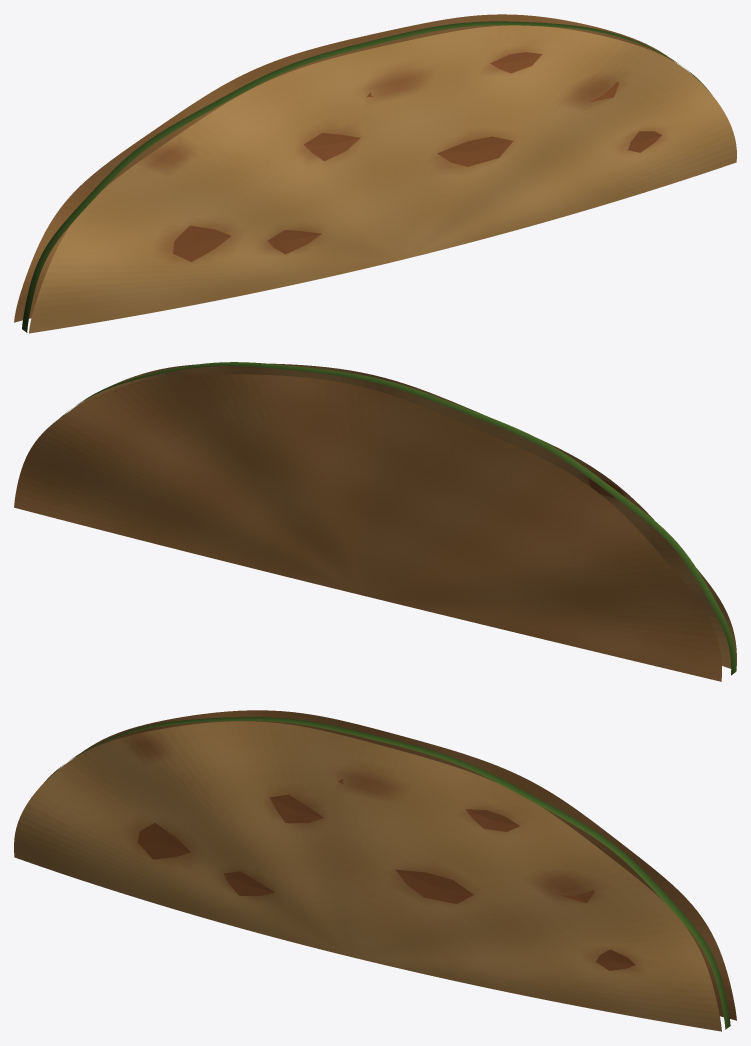
Rendered from low_poly_herb_qutab.obj.
3 renders of one model, top to bottom at view 1: azimuth 30°, elevation 25°; view 2: azimuth 150°, elevation 25°; view 3: azimuth 330°, elevation 25°, orthographic.
Size of the model in its own units: 1.56 by 0.4309 by 0.13.
